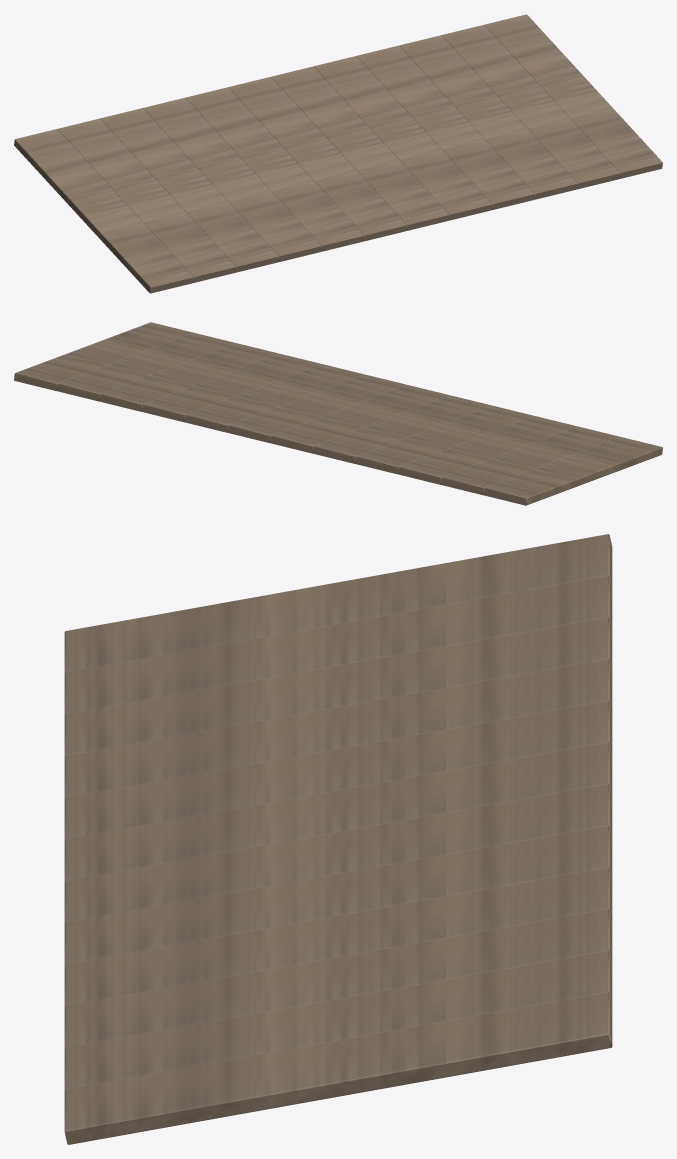
The model's file is BW_Merchant01_CanopyBoards.fbx.
3 views of the same model, one above another, from view 1: azimuth 30°, elevation 25°; view 2: azimuth 150°, elevation 25°; view 3: azimuth 270°, elevation 25° (orthographic). The views are drawn at different scales.
Parts seen in each view (by area): view 1: BW_Merchant01_CanopyBoards; view 2: BW_Merchant01_CanopyBoards; view 3: BW_Merchant01_CanopyBoards.
Boxes of the visible parts, <box> form: BW_Merchant01_CanopyBoards: <box>14,14,662,293</box>; BW_Merchant01_CanopyBoards: <box>14,322,662,505</box>; BW_Merchant01_CanopyBoards: <box>64,534,612,1144</box>.
Size of the model in its own units: 3.19 by 0.332 by 1.48.
